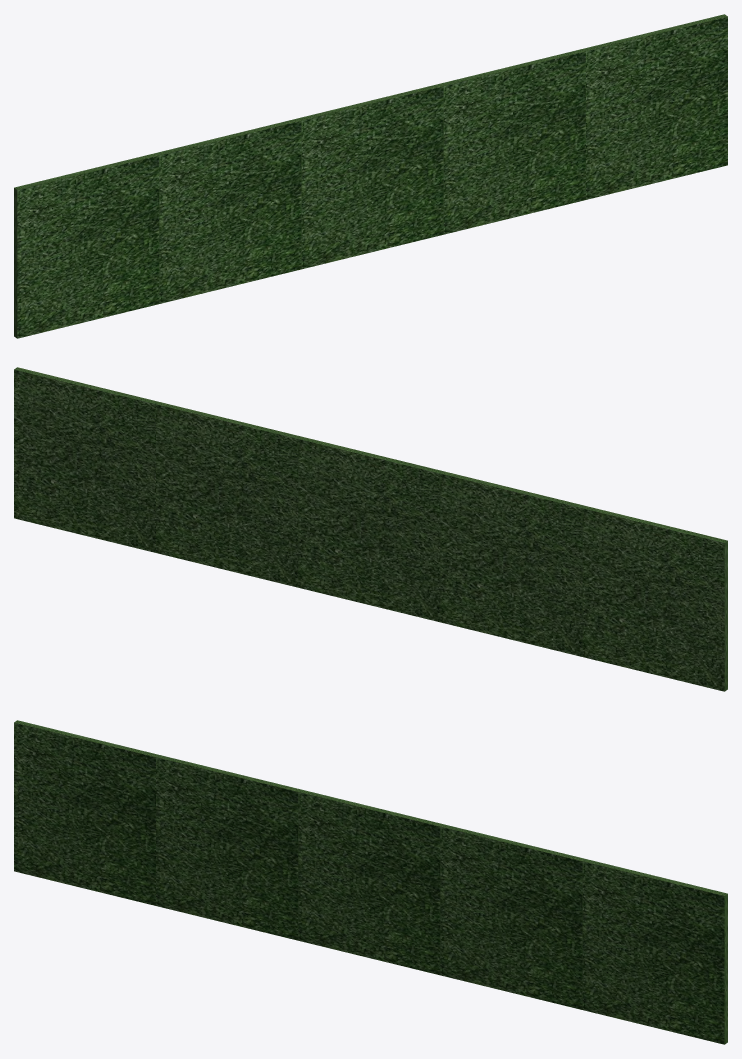
3 views of the same model, one above another, from view 1: azimuth 30°, elevation 25°; view 2: azimuth 150°, elevation 25°; view 3: azimuth 330°, elevation 25° (orthographic).
Parts seen in each view (by area): view 1: PC103_Cube.106, PC95_Cube.098, PC96_Cube.099, PC97_Cube.100, PC94_Cube.097; view 2: PC103_Cube.106, PC95_Cube.098, PC96_Cube.099, PC97_Cube.100, PC94_Cube.097; view 3: PC94_Cube.097, PC95_Cube.098, PC96_Cube.099, PC97_Cube.100, PC103_Cube.106.
Part boxes in pixels (<box>): PC103_Cube.106: <box>14,153,159,338</box>; PC95_Cube.098: <box>440,49,585,234</box>; PC96_Cube.099: <box>298,83,443,269</box>; PC97_Cube.100: <box>156,118,301,303</box>; PC94_Cube.097: <box>583,14,727,199</box>; PC103_Cube.106: <box>582,506,727,691</box>; PC95_Cube.098: <box>156,402,301,587</box>; PC96_Cube.099: <box>298,436,443,622</box>; PC97_Cube.100: <box>440,471,585,656</box>; PC94_Cube.097: <box>14,367,158,552</box>; PC94_Cube.097: <box>582,859,727,1044</box>; PC95_Cube.098: <box>440,824,585,1009</box>; PC96_Cube.099: <box>298,789,443,975</box>; PC97_Cube.100: <box>156,755,301,940</box>; PC103_Cube.106: <box>14,720,158,905</box>.
Bounding box in the file's own units: 50 × 10 × 0.4.
Materials: 1 (1 with a texture image).
